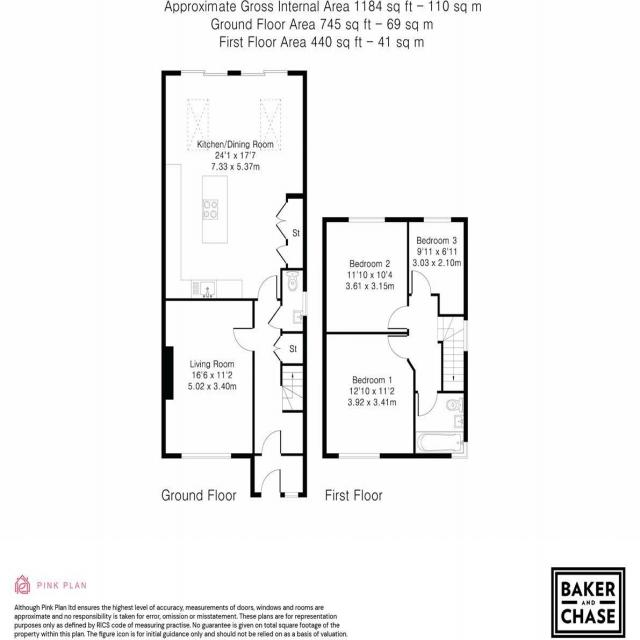DOOR: (260, 468, 282, 498), (232, 326, 255, 352), (387, 334, 409, 360), (410, 270, 432, 296), (261, 429, 282, 456), (257, 274, 278, 301), (387, 305, 409, 330), (417, 391, 438, 417), (267, 305, 283, 330)
ROOM: (161, 70, 307, 301), (161, 298, 255, 459), (322, 332, 416, 459), (322, 217, 409, 334), (407, 217, 468, 316)
SLIDING DOOR: (179, 68, 229, 78), (240, 69, 290, 78)
WINDOW: (451, 441, 468, 459), (181, 453, 232, 459), (338, 453, 381, 459), (348, 217, 386, 223), (423, 217, 452, 223), (463, 319, 468, 352), (302, 291, 308, 317), (284, 491, 299, 499)
